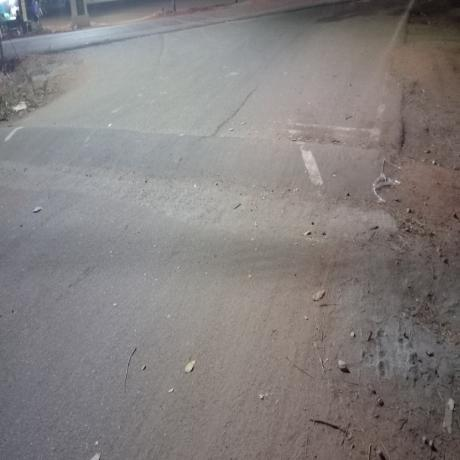Speed Bump: (0, 195, 400, 289), (2, 122, 399, 210)
